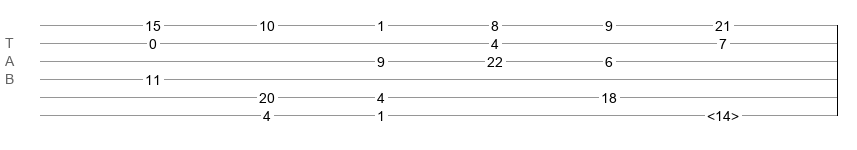0: (149, 36, 157, 46)
1: (377, 18, 385, 28), (377, 108, 385, 118)
10: (259, 18, 275, 28)
11: (145, 72, 161, 82)
15: (145, 18, 161, 28)
18: (601, 90, 617, 100)
20: (259, 90, 275, 100)
21: (715, 18, 731, 28)
22: (487, 54, 503, 64)
4: (263, 108, 271, 118), (377, 90, 385, 100), (491, 36, 499, 46)
6: (605, 54, 613, 64)
7: (719, 36, 727, 46)
8: (491, 18, 499, 28)
9: (377, 54, 385, 64), (605, 18, 613, 28)
harmonic: (707, 108, 739, 118)
